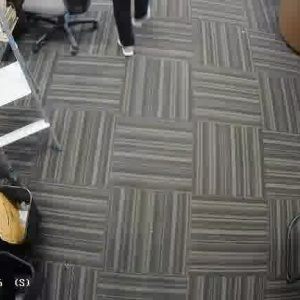person: (111, 0, 154, 59)
